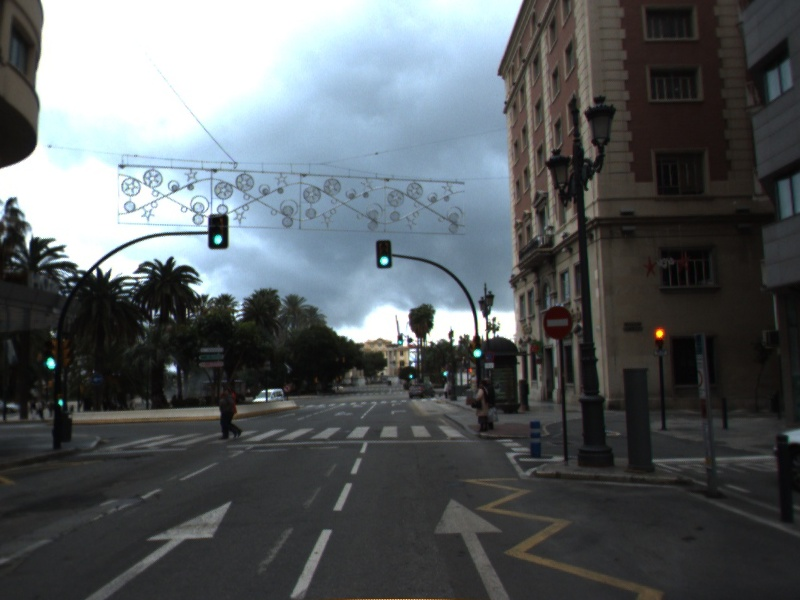STRAIGHT: (81, 497, 236, 600), (430, 494, 514, 600)
